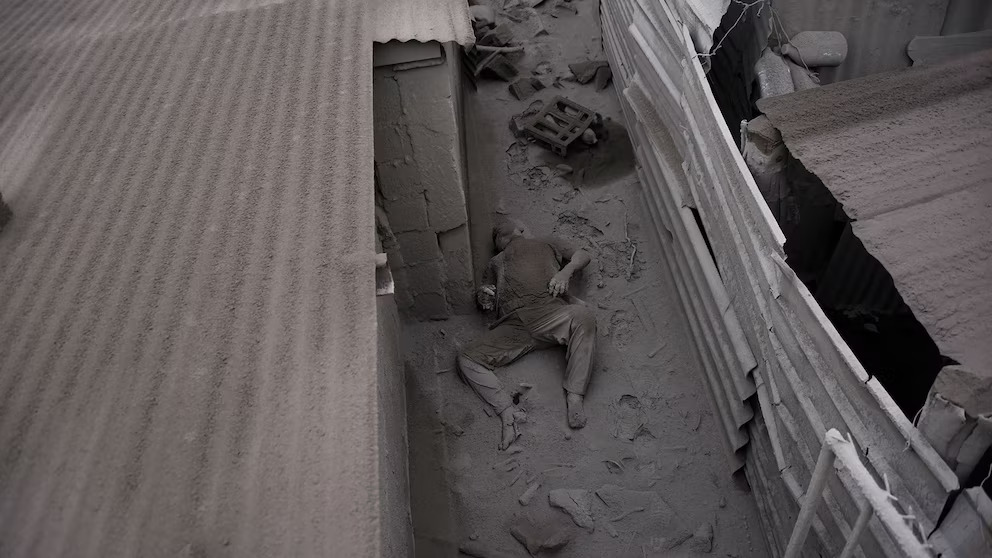Korban: (455, 217, 597, 452)
